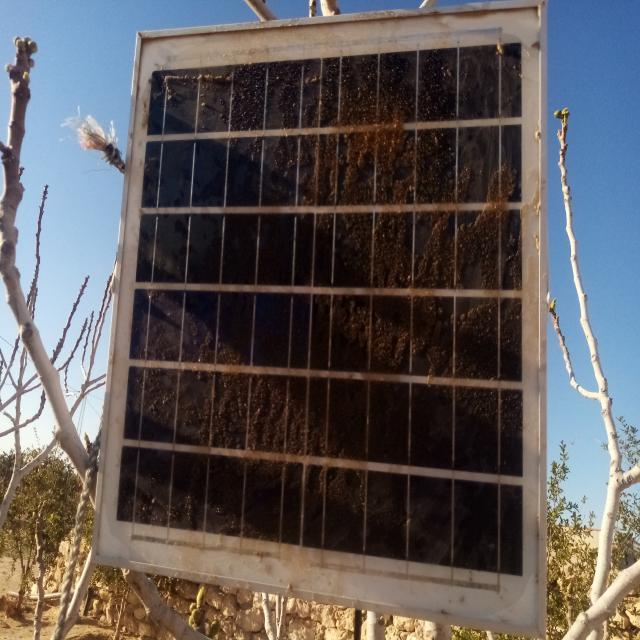faulty: (92, 6, 543, 638)
